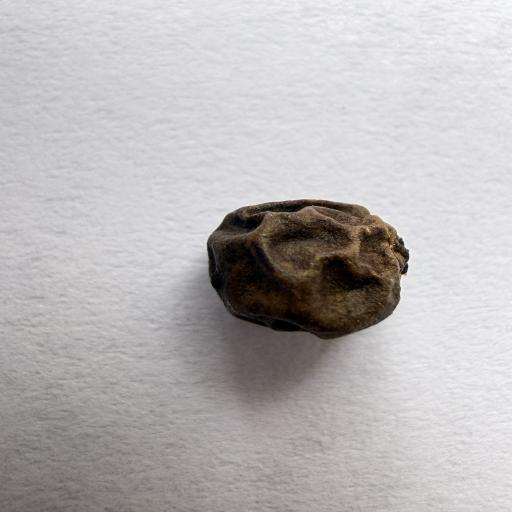Black_pepper: (180, 180, 430, 343)
